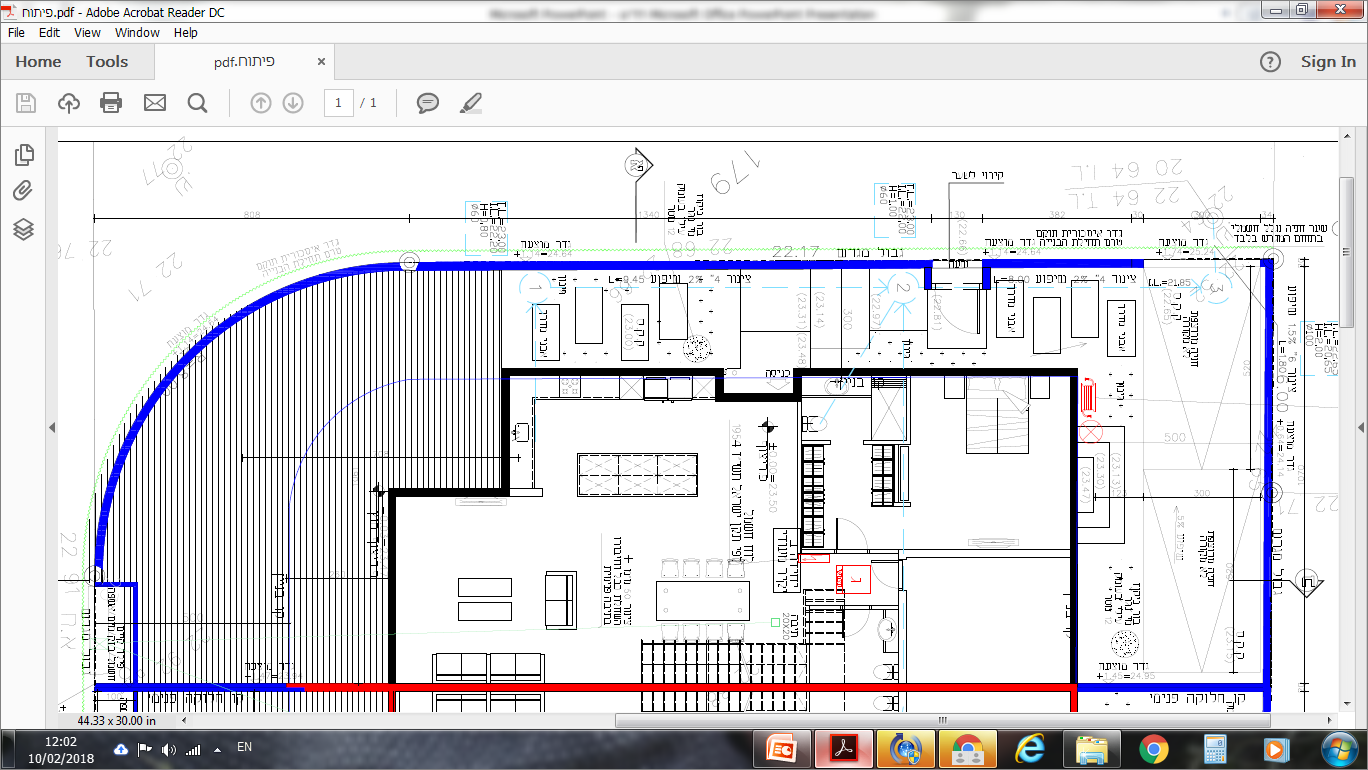wall: (1060, 356, 1086, 690), (134, 684, 1072, 690), (436, 260, 931, 269), (1264, 261, 1272, 690), (387, 487, 396, 690), (501, 368, 725, 375)
